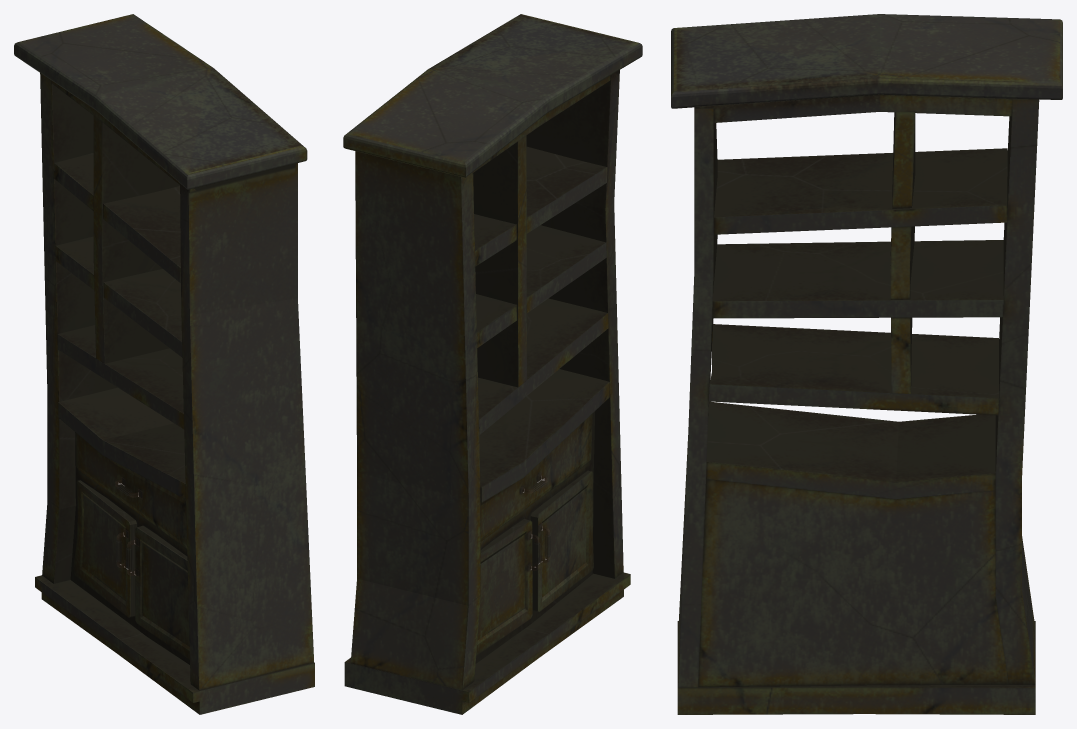
The model's file is Bibliotecas_Mediana_V2.glb.
3 renders of one model, left to right at view 1: azimuth 30°, elevation 25°; view 2: azimuth 150°, elevation 25°; view 3: azimuth 270°, elevation 25°, orthographic. The views are drawn at different scales.
Parts seen in each view (by area): view 1: Estanteria.002; view 2: Estanteria.002; view 3: Estanteria.002.
Boxes of the visible parts, x1,y1,x2,y2 form: Estanteria.002: (14,14,314,714); Estanteria.002: (343,14,642,714); Estanteria.002: (671,14,1062,714).
Size of the model in its own units: 0.8253 by 3.37 by 1.9.
2 materials, 2 textured.
